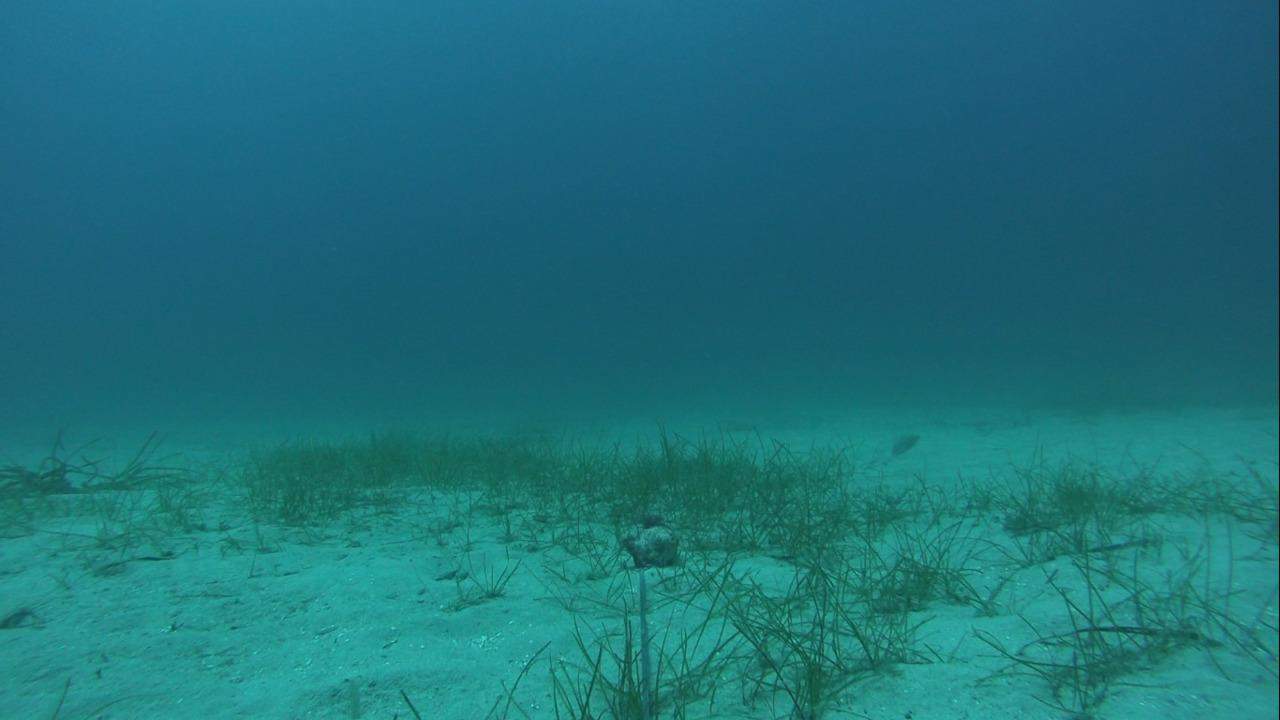raor: (880, 427, 923, 460)
